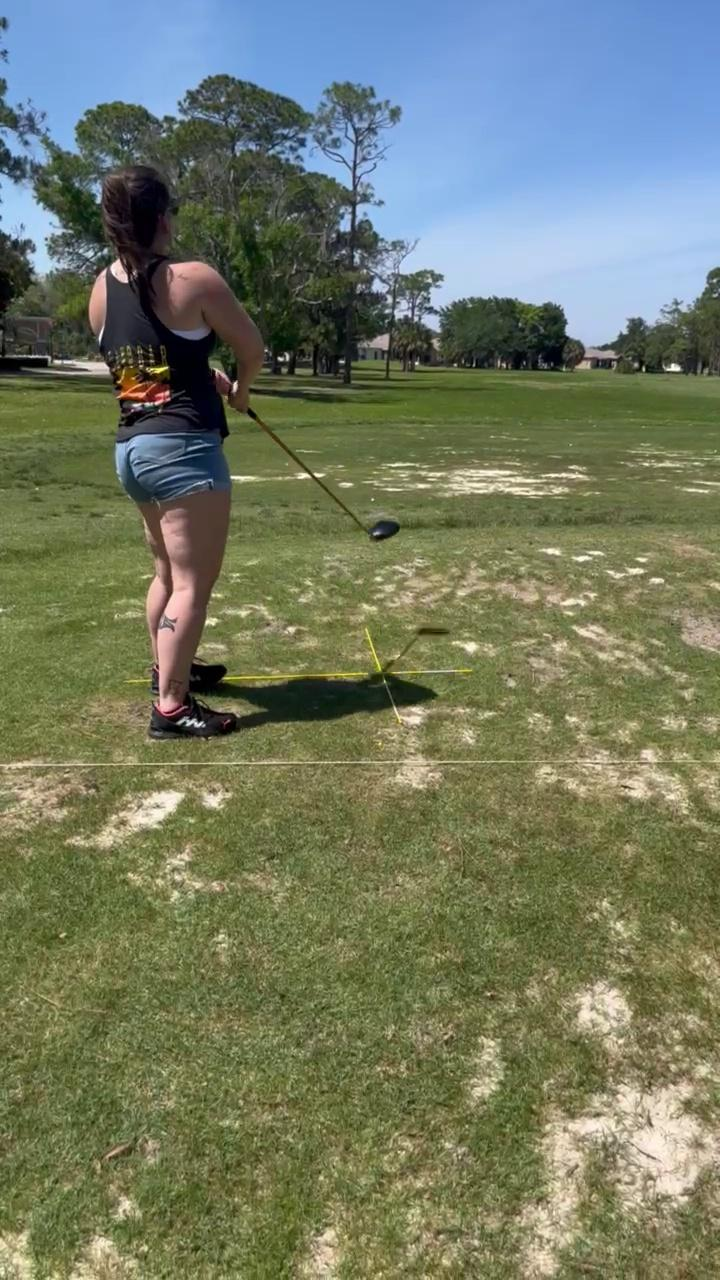ClubHead: (365, 505, 403, 557)
